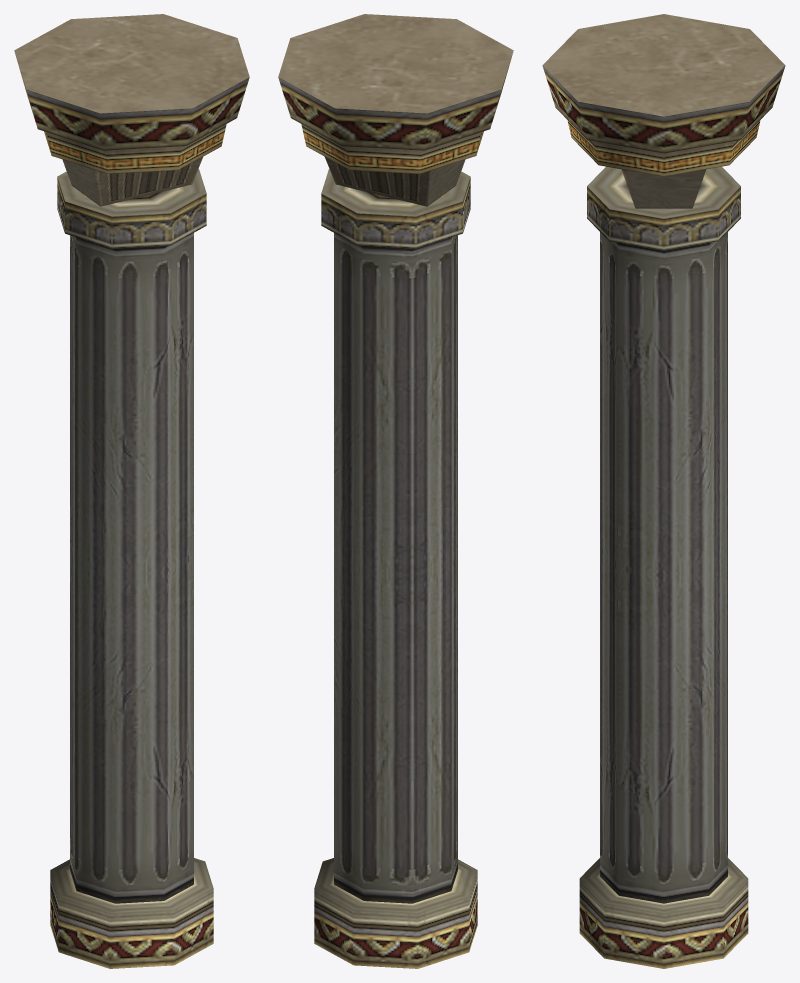
File: GW_ZhuChenzhuzi_001.FBX
The picture shows the model from 3 angles, left to right: view 1: azimuth 30°, elevation 25°; view 2: azimuth 150°, elevation 25°; view 3: azimuth 270°, elevation 25°; orthographic projection.
Visible parts, largest first — view 1: GW_ZhuChenzhuzi_001; view 2: GW_ZhuChenzhuzi_001; view 3: GW_ZhuChenzhuzi_001.
Part boxes in pixels (<box>): GW_ZhuChenzhuzi_001: <box>14,14,249,968</box>; GW_ZhuChenzhuzi_001: <box>278,14,513,968</box>; GW_ZhuChenzhuzi_001: <box>542,14,785,968</box>.
Bounding box in the file's own units: 43.03 × 169 × 43.03.
